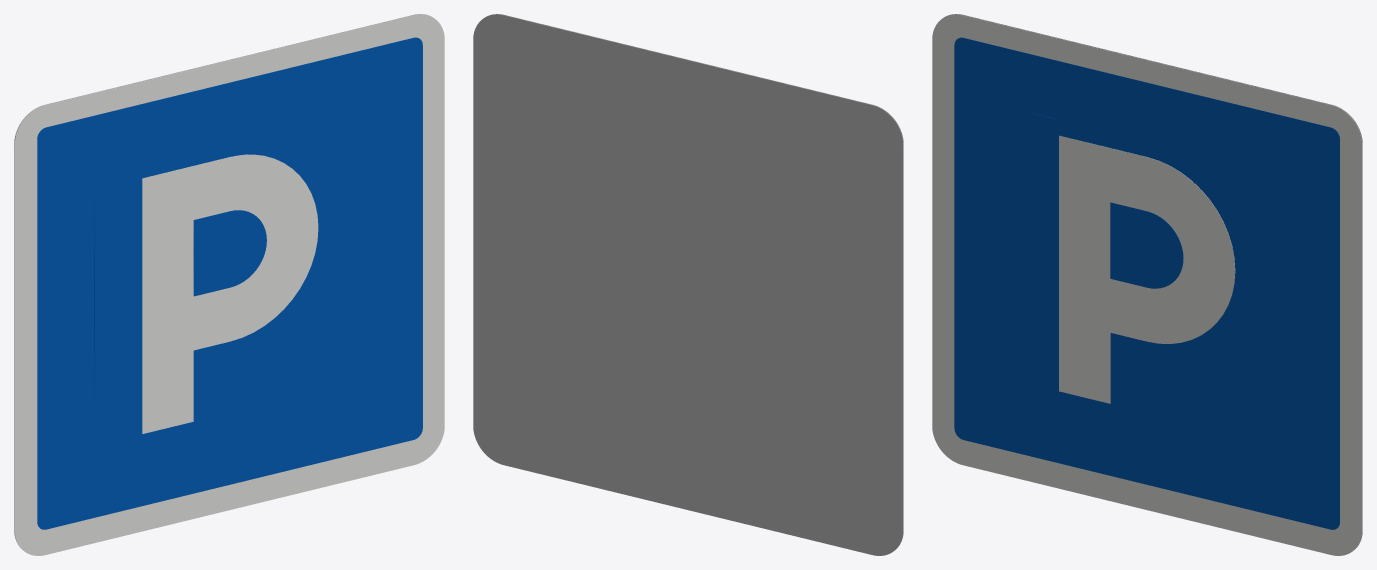
The picture shows the model from 3 angles, left to right: view 1: azimuth 30°, elevation 25°; view 2: azimuth 150°, elevation 25°; view 3: azimuth 330°, elevation 25°; orthographic projection.
Parts seen in each view (by area): view 1: C1a_p01, C1a_p00, C1a_p02, C1a_p04, C1a_p03, C1a_dos; view 2: C1a_dos, C1a_p00; view 3: C1a_p01, C1a_p00, C1a_p02, C1a_p04, C1a_p03, C1a_dos.
Part boxes in pixels (x1,y1,x2,y2): C1a_p01: [37, 37, 422, 529]; C1a_p00: [14, 14, 444, 555]; C1a_p02: [142, 154, 318, 433]; C1a_p04: [94, 163, 142, 460]; C1a_p03: [193, 210, 266, 296]; C1a_dos: [14, 14, 431, 547]; C1a_dos: [473, 14, 903, 555]; C1a_p00: [486, 14, 903, 547]; C1a_p01: [954, 37, 1339, 529]; C1a_p00: [932, 14, 1362, 555]; C1a_p02: [1059, 135, 1235, 403]; C1a_p04: [1010, 108, 1058, 406]; C1a_p03: [1110, 202, 1183, 288]; C1a_dos: [945, 14, 1362, 547].
Size of the model in its own units: 0.7 by 0.6999 by 0.0035.
